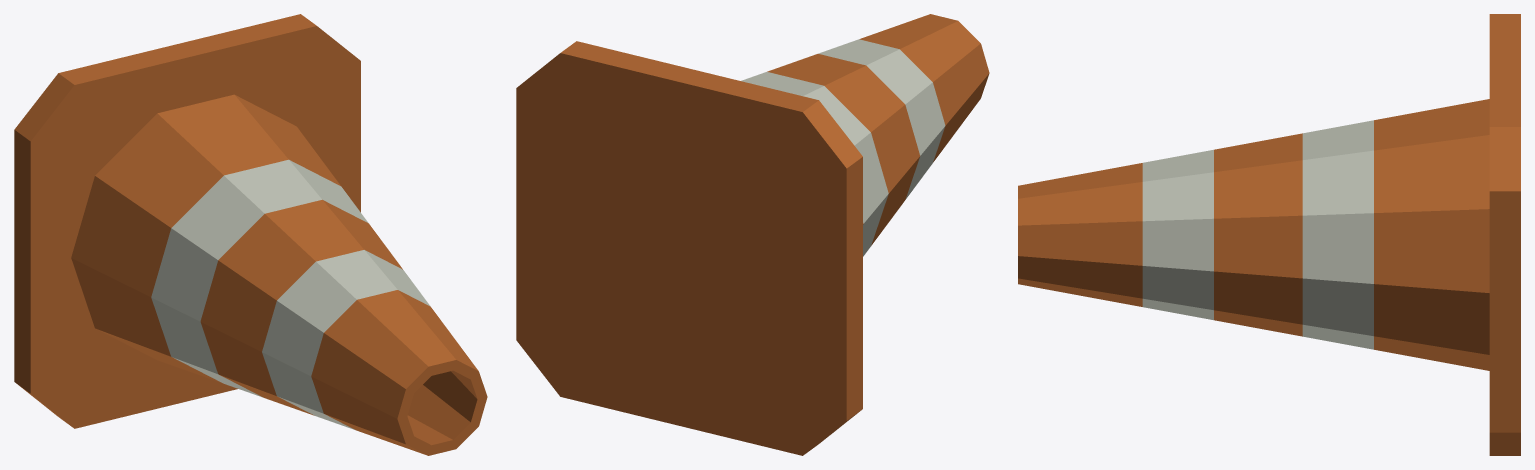
The model's file is S_TrafficCone.glb.
The picture shows the model from 3 angles, left to right: view 1: azimuth 30°, elevation 25°; view 2: azimuth 150°, elevation 25°; view 3: azimuth 270°, elevation 25°; orthographic projection. The views are drawn at different scales.
Visible parts, largest first — view 1: part_00, part_01; view 2: part_00, part_01; view 3: part_00, part_01.
Boxes of the visible parts, bbox=[...] form: part_00: bbox=[14, 14, 487, 455]; part_01: bbox=[151, 159, 430, 429]; part_00: bbox=[516, 14, 989, 455]; part_01: bbox=[741, 39, 945, 256]; part_00: bbox=[1018, 14, 1520, 455]; part_01: bbox=[1142, 120, 1373, 349].
Bounding box in the file's own units: 0.3357 × 0.3339 × 0.4628.
